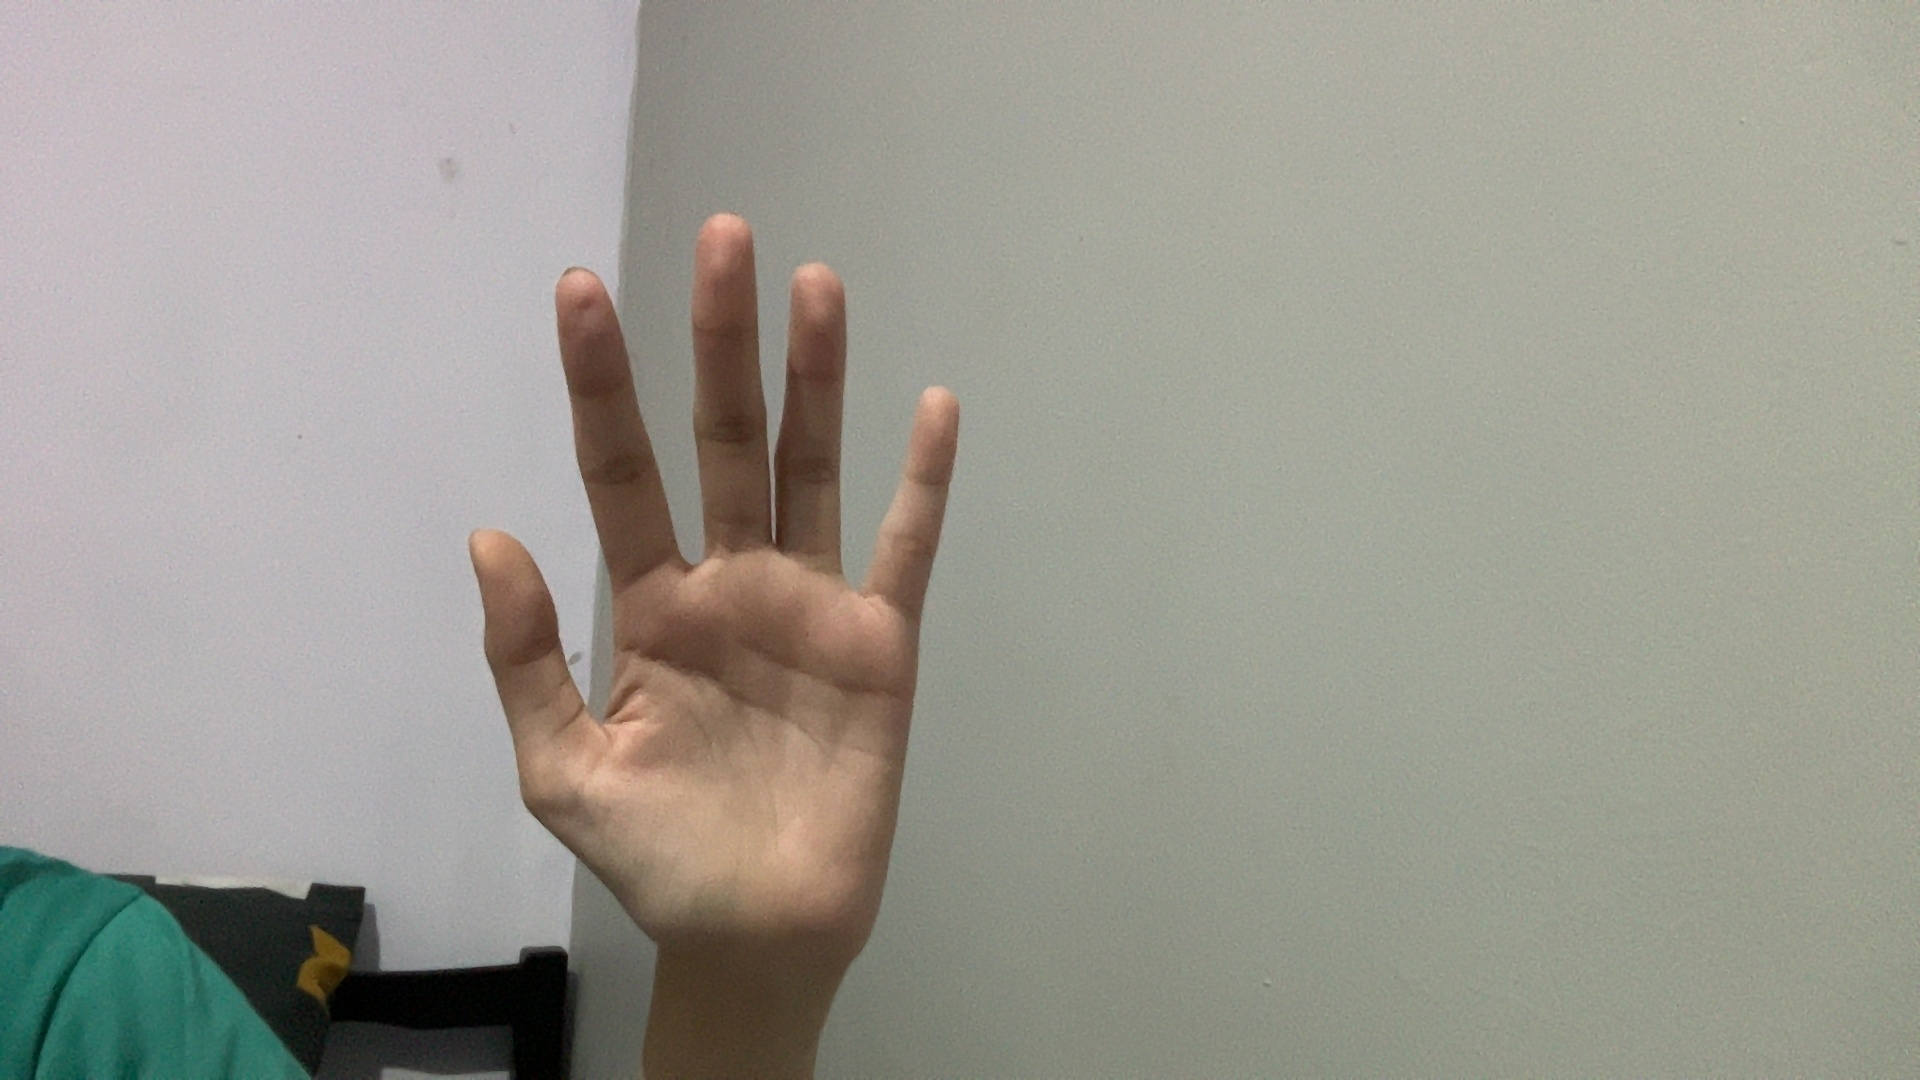Hello: (256, 182, 1255, 1021)
